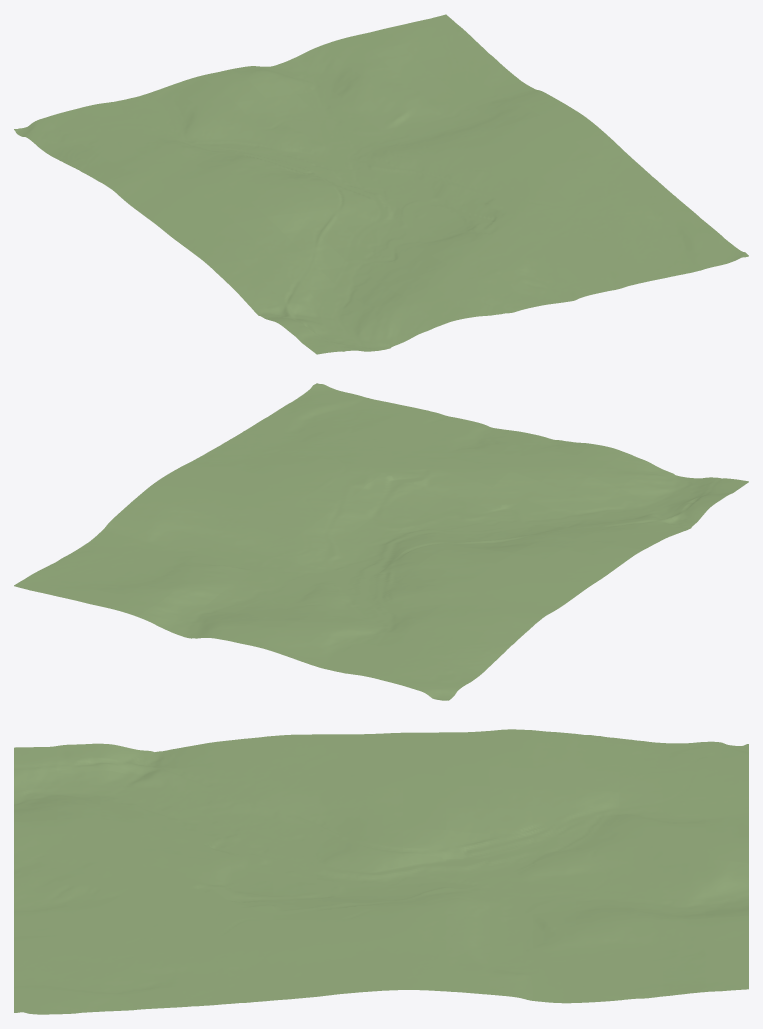
File: terrain_lod2.glb
The picture shows the model from 3 angles, top to bottom: view 1: azimuth 30°, elevation 25°; view 2: azimuth 150°, elevation 25°; view 3: azimuth 270°, elevation 25°; orthographic projection. The views are drawn at different scales.
Visible parts, largest first — view 1: t_2_0, t_9_16, t_9_13, t_3_0, t_5_13, t_9_12, t_10_12, t_0_3, t_5_7, t_8_9, t_8_8, t_8_0 (+151 smaller); view 2: t_6_4, t_10_10, t_7_4, t_3_2, t_12_11, t_5_3, t_11_10, t_9_10, t_4_3, t_5_4, t_13_11, t_0_14 (+98 smaller); view 3: t_0_1, t_5_9, t_0_2, t_5_10, t_6_8, t_1_0, t_3_13, t_4_11, t_6_9, t_3_6, t_0_0, t_3_5 (+223 smaller).
Part boxes in pixels (x1,y1,x2,y2): t_2_0: (361,321,409,350); t_9_16: (292,45,339,74); t_9_13: (345,88,393,115); t_3_0: (392,310,440,338); t_5_13: (222,120,269,145); t_9_12: (363,105,411,130); t_10_12: (394,98,442,122); t_0_3: (245,294,293,317); t_5_7: (329,204,376,227); t_8_9: (386,151,433,177); t_8_8: (403,163,451,190); t_8_0: (546,277,594,302); t_6_4: (444,477,492,503); t_10_10: (213,522,261,549); t_7_4: (413,468,460,495); t_3_2: (572,476,620,504); t_12_11: (134,520,182,547); t_5_3: (493,471,540,498); t_11_10: (183,513,230,540); t_9_10: (245,531,292,557); t_4_3: (524,482,571,509); t_5_4: (475,487,522,514); t_13_11: (103,511,151,537); t_0_14: (451,646,499,673); t_0_1: (57,743,100,773); t_5_9: (403,829,446,859); t_0_2: (100,743,143,774); t_5_10: (446,830,489,859); t_6_8: (360,854,402,881); t_1_0: (14,770,57,797); t_3_13: (576,790,619,817); t_4_11: (489,808,532,835); t_6_9: (403,854,446,880); t_3_6: (273,796,316,824); t_0_0: (14,746,57,772); t_3_5: (230,800,273,828).
Bounding box in the file's own units: 3584 × 226 × 4352.
